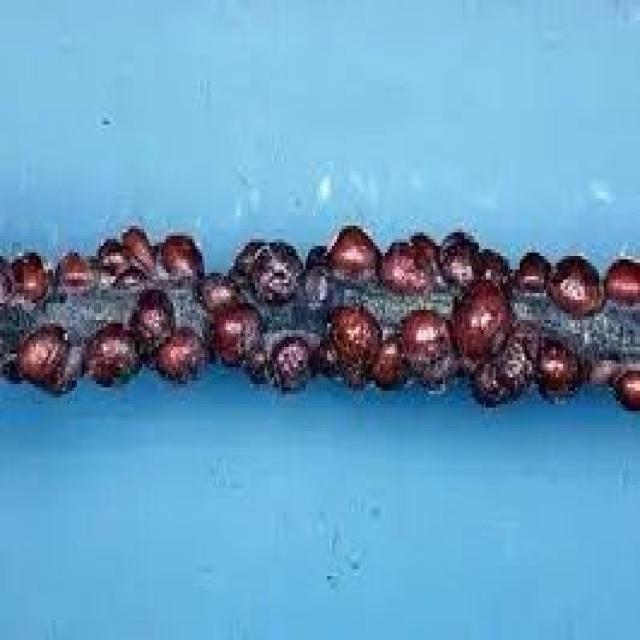Black Scale: (0, 217, 638, 409)
